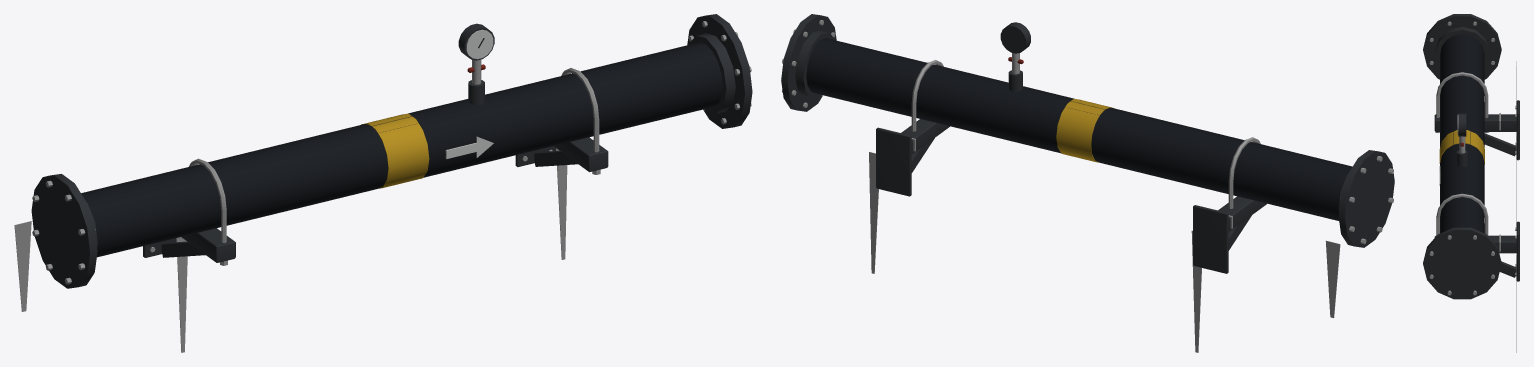
The model's file is Pipe_Run_Straight_2m.fbx.
3 renders of one model, left to right at view 1: azimuth 30°, elevation 25°; view 2: azimuth 150°, elevation 25°; view 3: azimuth 270°, elevation 25°, orthographic. The views are drawn at different scales.
Parts seen in each view (by area): view 1: Pipe_Run_Straight_2m_LOD0; view 2: Pipe_Run_Straight_2m_LOD0; view 3: Pipe_Run_Straight_2m_LOD0.
Boxes of the visible parts, box(x1,y1,x2,y2) form: Pipe_Run_Straight_2m_LOD0: box(14, 14, 752, 352); Pipe_Run_Straight_2m_LOD0: box(781, 14, 1394, 352); Pipe_Run_Straight_2m_LOD0: box(1423, 14, 1519, 352).
Size of what is drawn, in the model's own units: 1.99 by 0.8291 by 0.37.
